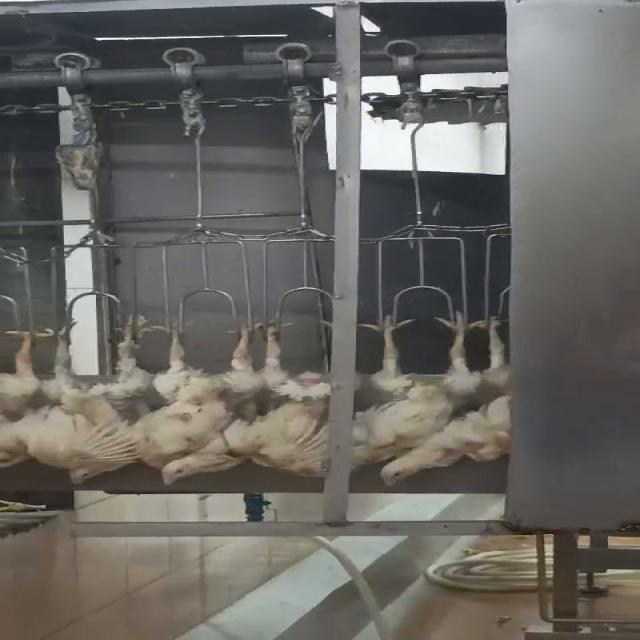chicken: (375, 304, 515, 490), (346, 302, 474, 474), (37, 314, 160, 487), (155, 315, 272, 490), (252, 307, 338, 475), (0, 321, 69, 473)
